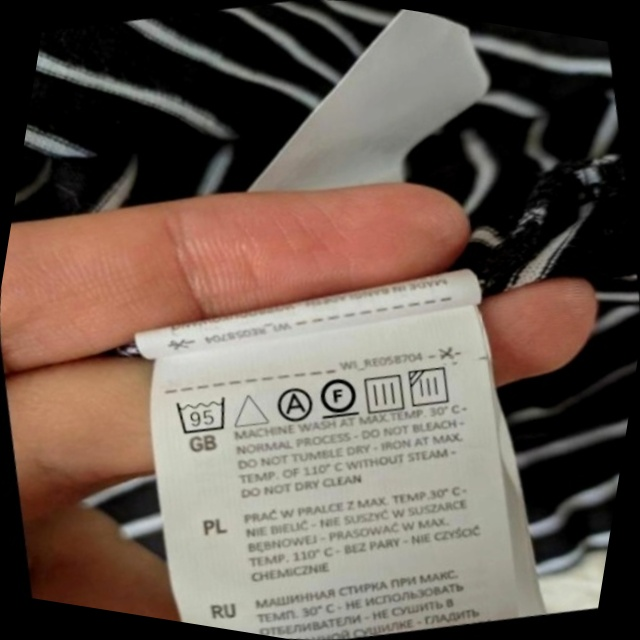95C: (166, 384, 239, 446)
bleach: (224, 381, 276, 437)
drip_dry: (354, 363, 415, 423)
drip_dry_in_shade: (400, 356, 463, 418)
dry_clean: (267, 378, 321, 431)
dry_clean_petrol_only: (310, 365, 368, 427)
